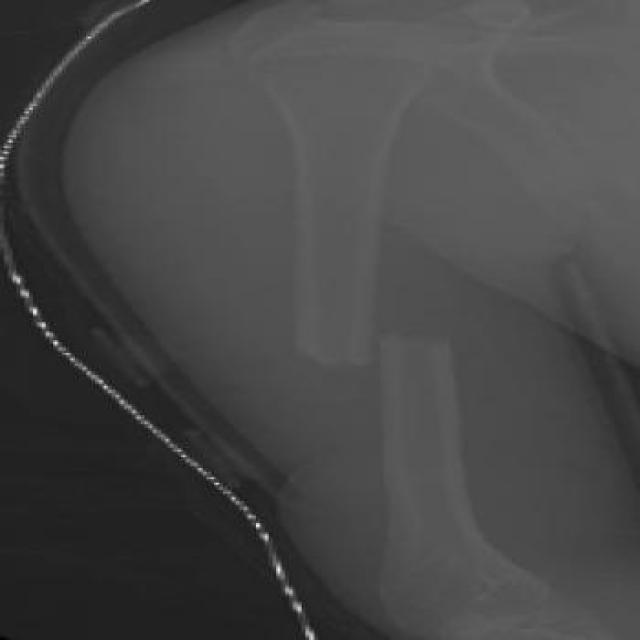Fracture: (293, 320, 466, 376)
